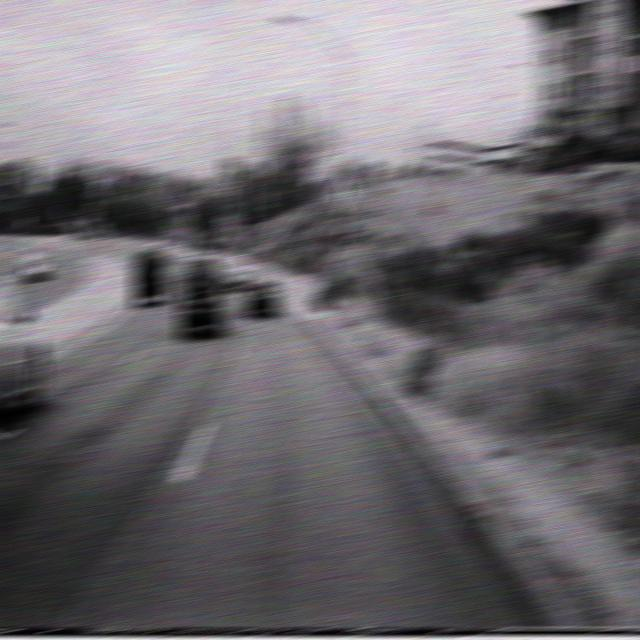pedestrianCrossing: (327, 168, 359, 216)
